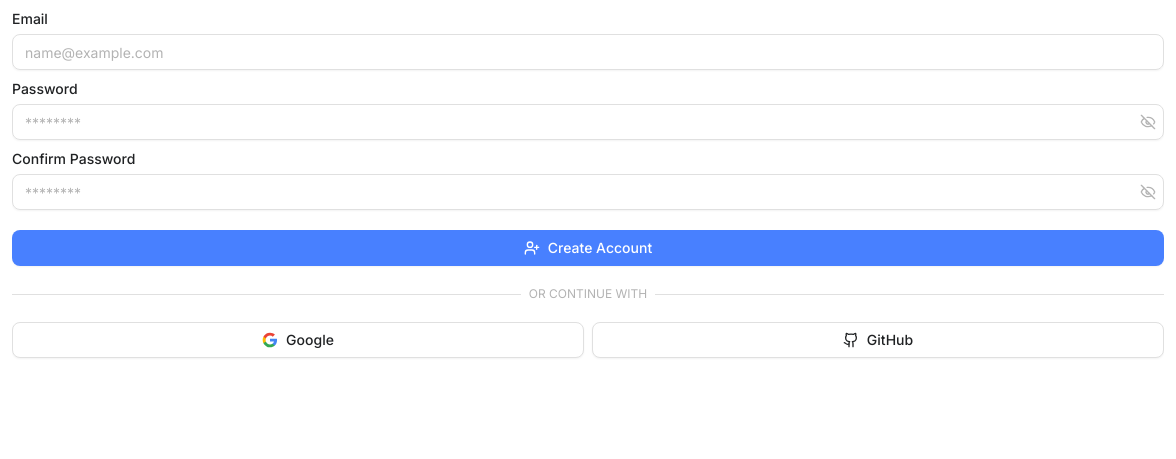
Scenario: SignUpForm Component › displays validation errors on empty submission
This screenshot has width=1176, height=459.
Click the button "Create Account" at (588, 248), box x1=12 y1=230 x2=1164 y2=266
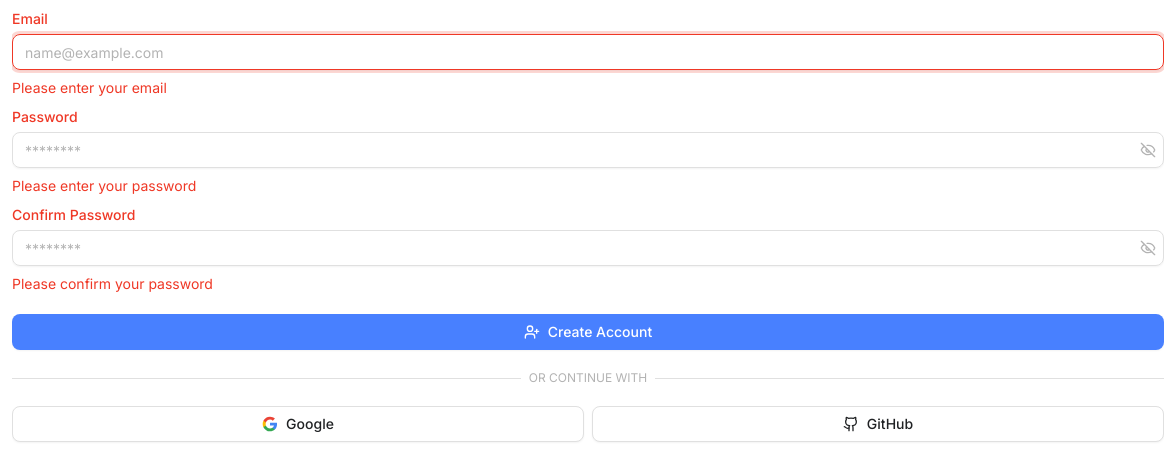
Expected: the text "Please enter your email" is shown, x1=12 y1=79 x2=167 y2=96
Expected: the text "Please enter your password" is shown, x1=12 y1=177 x2=196 y2=194
